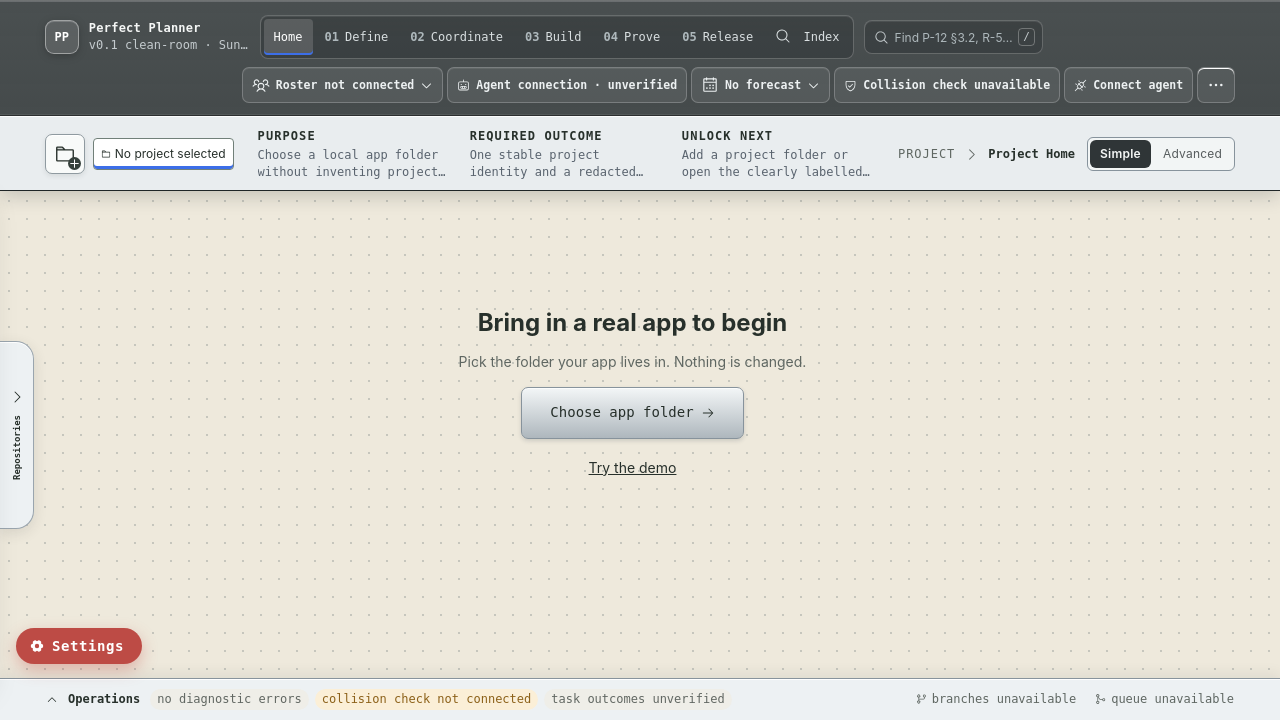
Test: Operations shows committed events as saved locally
The width and height of the screenshot is (1280, 720).
Click the button with class "ops-handle" at [640, 700], box 0,679 -> 1279,719
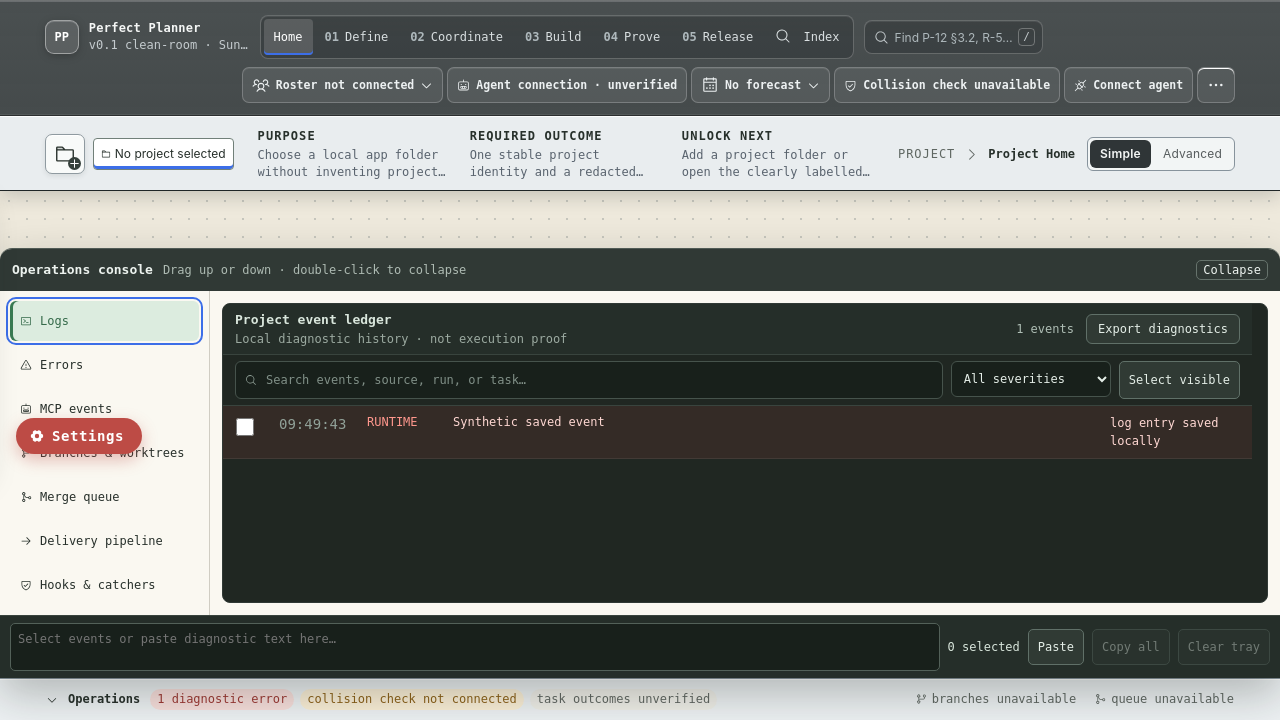
Expected: the text "Synthetic saved event" is shown, 453,415 -> 605,429
Expected: the text "log entry saved locally" is shown, 1110,416 -> 1218,448
